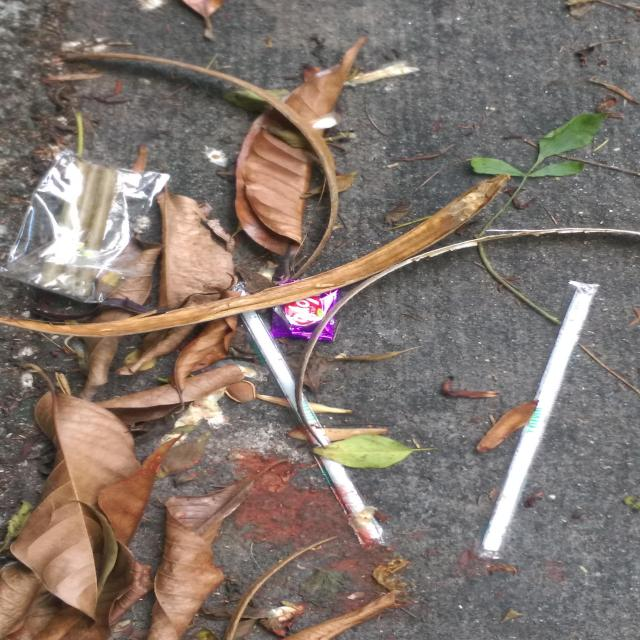litter: (231, 286, 380, 539), (482, 294, 593, 551), (1, 150, 172, 303), (271, 278, 341, 341)
